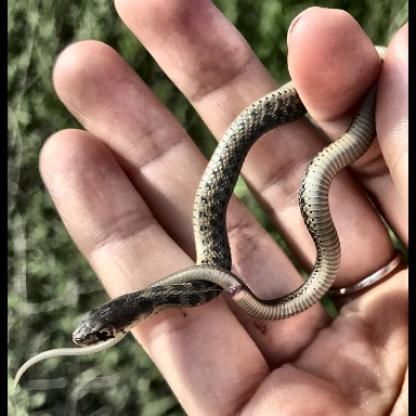Snake: (55, 256, 298, 356)
